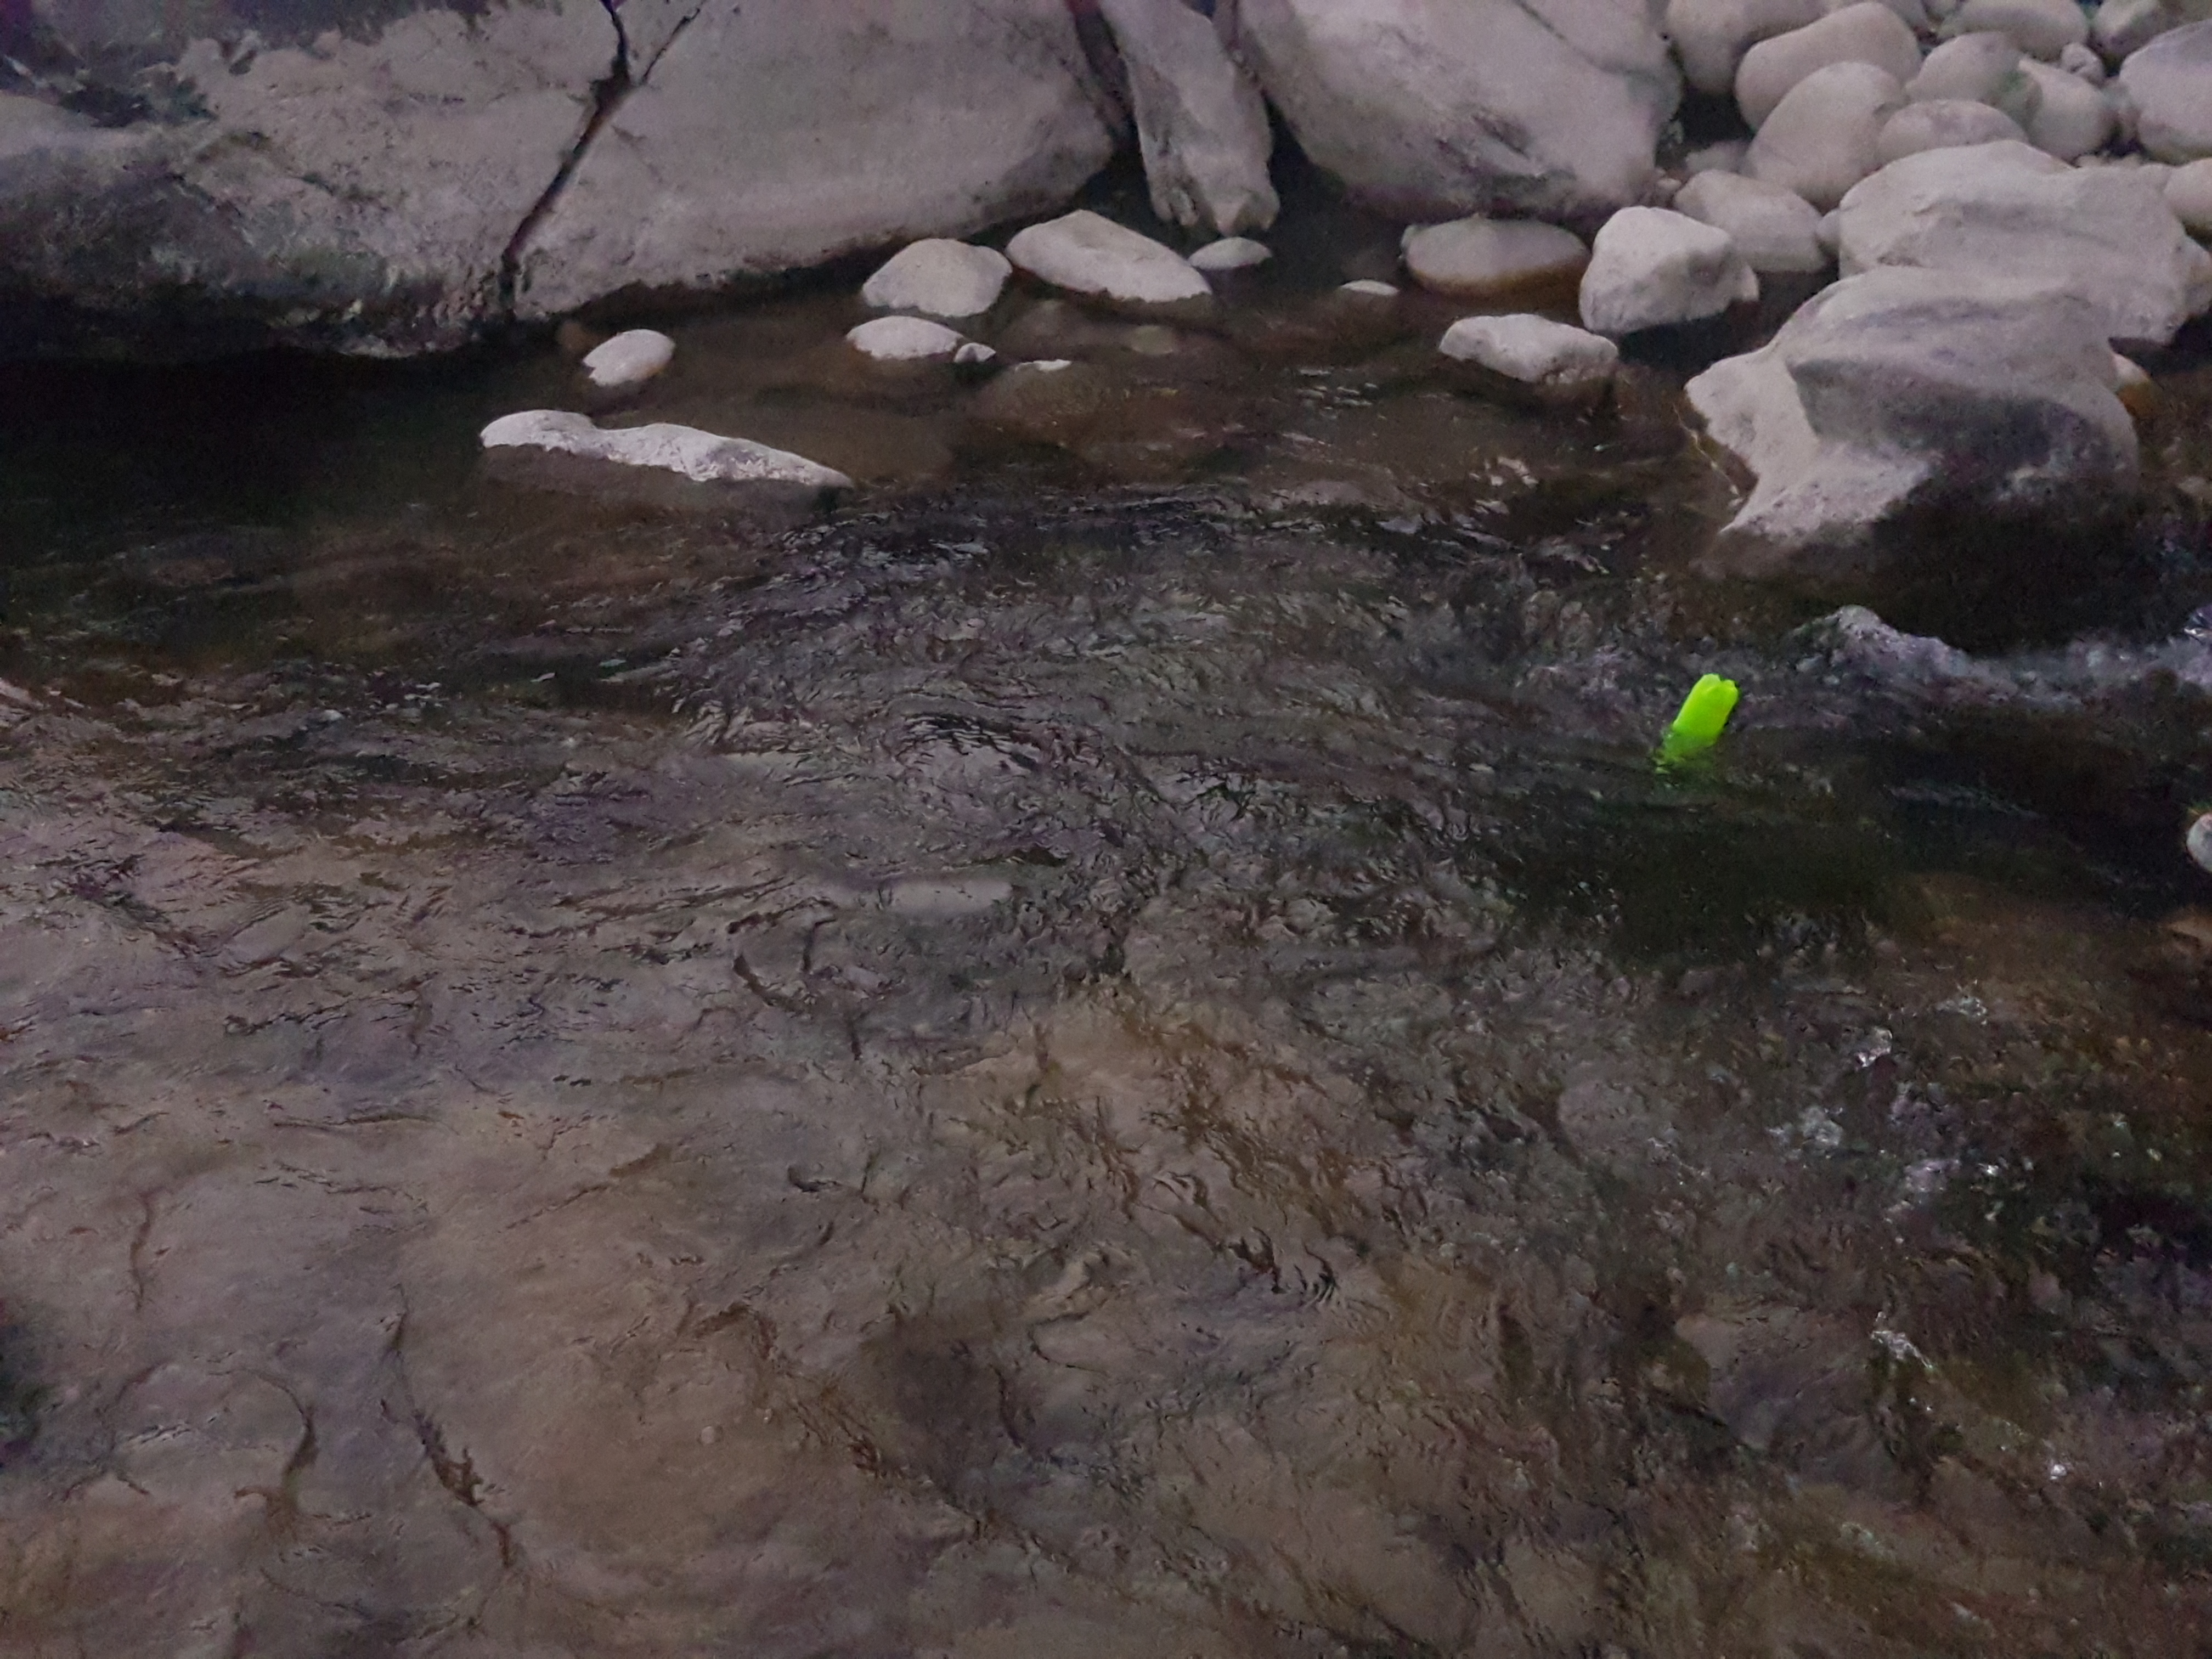Plastic Bottle: (1676, 671, 1742, 742)
